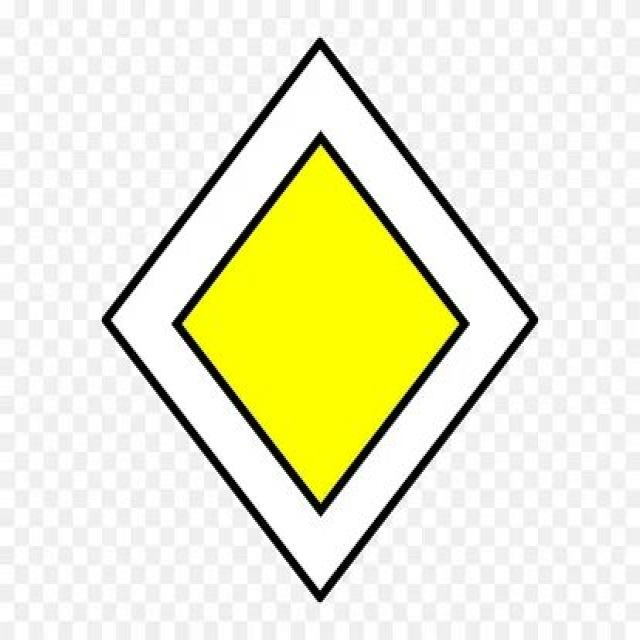signs: (102, 37, 540, 602)
